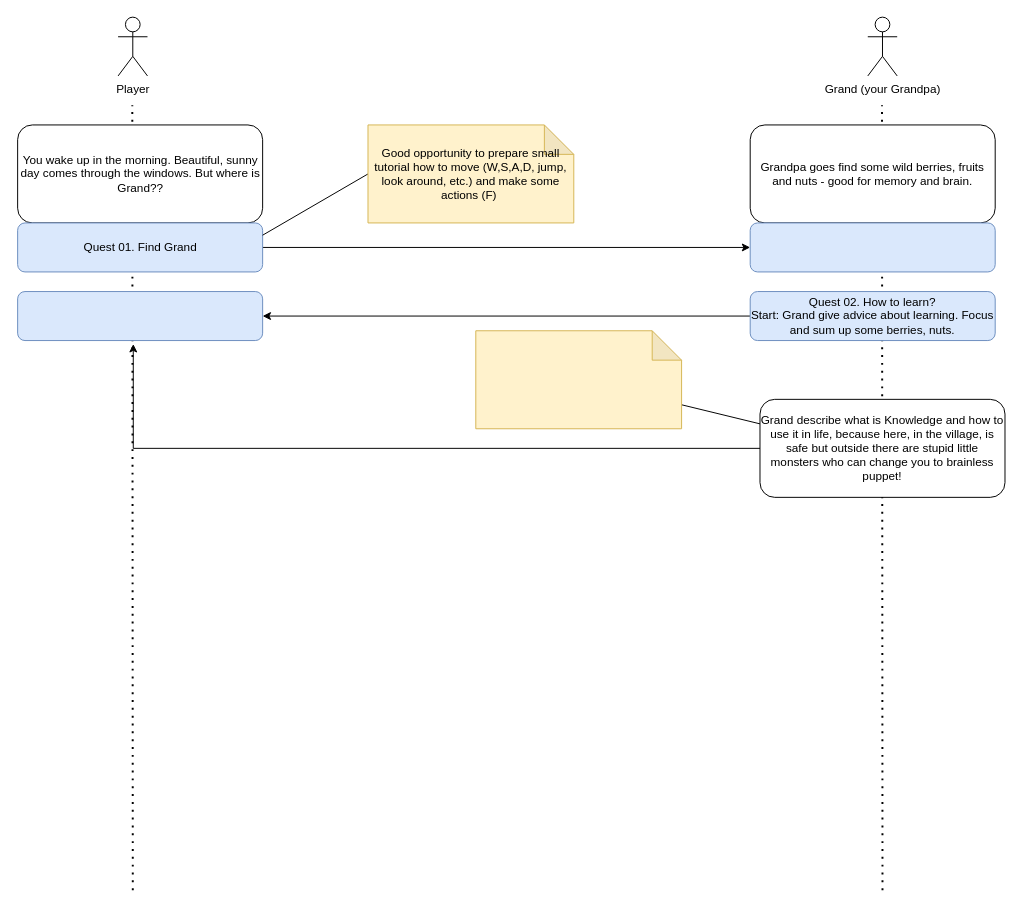
This 1022x909 diagram has some shape labels left out. Each missing label, with the box of its shape:
Bar with Knowledge level appear on the Player panel.: (475, 330, 682, 429)
Quest 01. Find Grand Finished: Grand in the forest, near your home.: (749, 222, 995, 272)
Quest 02: How to learn? Finished: Knowledge level increase.: (17, 291, 263, 341)
